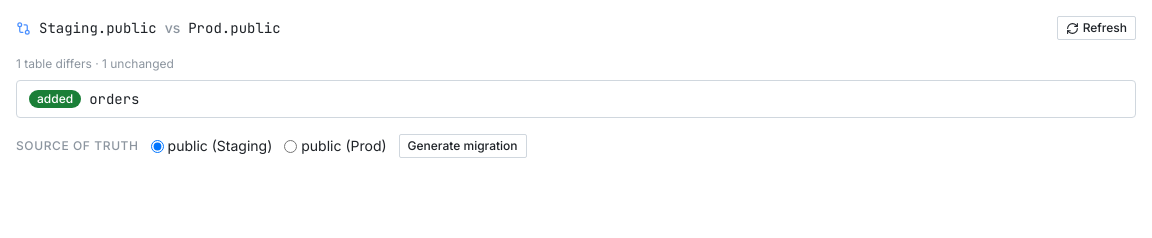
SchemaDiffView › expands a table row to show its column-level sub-diff
The image size is (1152, 238).
Click the text "orders".
click(114, 99)  # box [89,89,140,109]
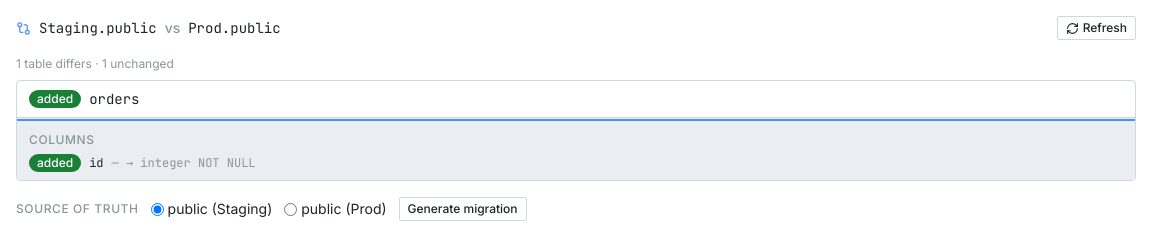
Expected: the text "Columns" is shown, [29,132,95,147]
Expected: the text "id" is shown, [89,155,104,171]
